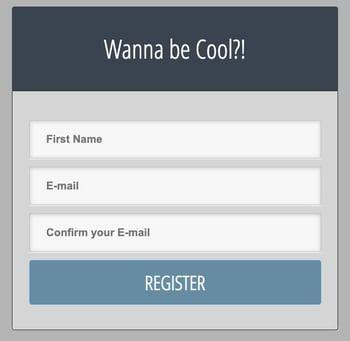button: (31, 261, 322, 306)
input: (30, 168, 322, 207), (31, 123, 321, 160), (31, 216, 321, 253)
label: (103, 38, 248, 65)
